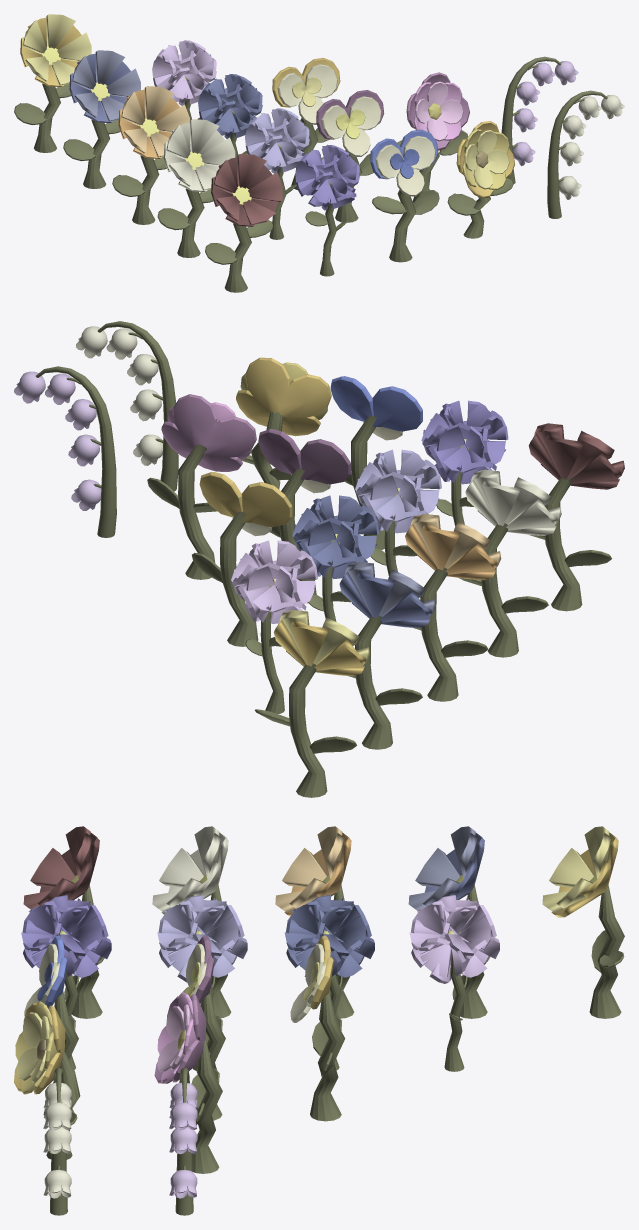
The model's file is FlowerSetFBX.fbx.
3 views of the same model, one above another, from view 1: azimuth 30°, elevation 25°; view 2: azimuth 150°, elevation 25°; view 3: azimuth 270°, elevation 25° (orthographic). The views are drawn at different scales.
Visible parts, largest first — view 1: pCylinder44 (×4), pCylinder42 (×4), pasted__pCylinder21 (×4), pCylinder35 (×4), pCylinder50, pCylinder59 (×2), pCylinder32 (×4), pCylinder45 (×4), pCylinder31 (×4), pCylinder28 (×3), pCylinder37 (×4), pCylinder29 (×3) (+17 smaller); view 2: pCylinder42 (×4), pasted__pCylinder21 (×4), pCylinder33 (×4), pCylinder44 (×4), pCylinder25 (×3), pCylinder59 (×2), pasted__pCylinder14 (×3), pCylinder23 (×3), pCylinder10 (×2), pCylinder31 (×4), pCylinder11 (×2), pCylinder32 (×4) (+13 smaller); view 3: pCylinder44 (×4), pCylinder38 (×4), pCylinder42 (×4), pCylinder37 (×4), pasted__pCylinder14 (×3), pasted__pCylinder21 (×3), pCylinder39 (×4), pCylinder40 (×4), pCylinder14 (×2), pCylinder50, pCylinder59 (×2), pCylinder67 (×2) (+7 smaller).
Boxes of the visible parts, x1=… form: pCylinder44 (×4): x1=22, y1=14, x2=235, y2=190; pCylinder42 (×4): x1=20, y1=17, x2=224, y2=192; pasted__pCylinder21 (×4): x1=34, y1=83, x2=204, y2=257; pCylinder35 (×4): x1=168, y1=67, x2=348, y2=203; pCylinder50: x1=213, y1=154, x2=282, y2=225; pCylinder59 (×2): x1=501, y1=56, x2=607, y2=218; pCylinder32 (×4): x1=152, y1=55, x2=322, y2=195; pCylinder45 (×4): x1=14, y1=103, x2=190, y2=230; pCylinder31 (×4): x1=162, y1=41, x2=341, y2=173; pCylinder28 (×3): x1=305, y1=64, x2=435, y2=169; pCylinder37 (×4): x1=188, y1=48, x2=359, y2=186; pCylinder29 (×3): x1=277, y1=73, x2=403, y2=178; pCylinder42 (×4): x1=274, y1=478, x2=557, y2=676; pasted__pCylinder21 (×4): x1=289, y1=523, x2=518, y2=797; pCylinder33 (×4): x1=246, y1=424, x2=484, y2=612; pCylinder44 (×4): x1=278, y1=469, x2=561, y2=664; pCylinder25 (×3): x1=241, y1=386, x2=422, y2=527; pCylinder59 (×2): x1=35, y1=321, x2=178, y2=537; pasted__pCylinder14 (×3): x1=220, y1=416, x2=384, y2=646; pCylinder23 (×3): x1=199, y1=376, x2=373, y2=517; pCylinder10 (×2): x1=173, y1=357, x2=290, y2=447; pCylinder31 (×4): x1=257, y1=400, x2=491, y2=578; pCylinder11 (×2): x1=204, y1=374, x2=331, y2=457; pCylinder32 (×4): x1=289, y1=416, x2=505, y2=604; pCylinder44 (×4): x1=152, y1=826, x2=611, y2=912; pCylinder38 (×4): x1=56, y1=906, x2=490, y2=956; pCylinder42 (×4): x1=161, y1=832, x2=618, y2=917; pCylinder37 (×4): x1=21, y1=904, x2=449, y2=951; pasted__pCylinder14 (×3): x1=43, y1=990, x2=345, y2=1121; pasted__pCylinder21 (×3): x1=211, y1=885, x2=624, y2=1018; pCylinder39 (×4): x1=73, y1=937, x2=499, y2=977; pCylinder40 (×4): x1=32, y1=937, x2=465, y2=977; pCylinder14 (×2): x1=46, y1=1037, x2=222, y2=1173; pCylinder50: x1=23, y1=826, x2=92, y2=909; pCylinder59 (×2): x1=50, y1=1067, x2=193, y2=1215; pCylinder67 (×2): x1=43, y1=1170, x2=197, y2=1198.
Bounding box in the file's own units: 1.96 × 0.6184 × 1.87.
